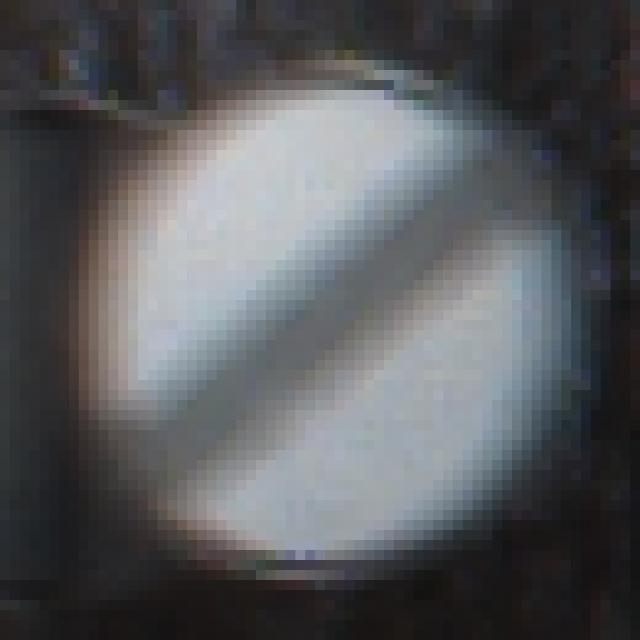restriction ends: (62, 54, 594, 588)
